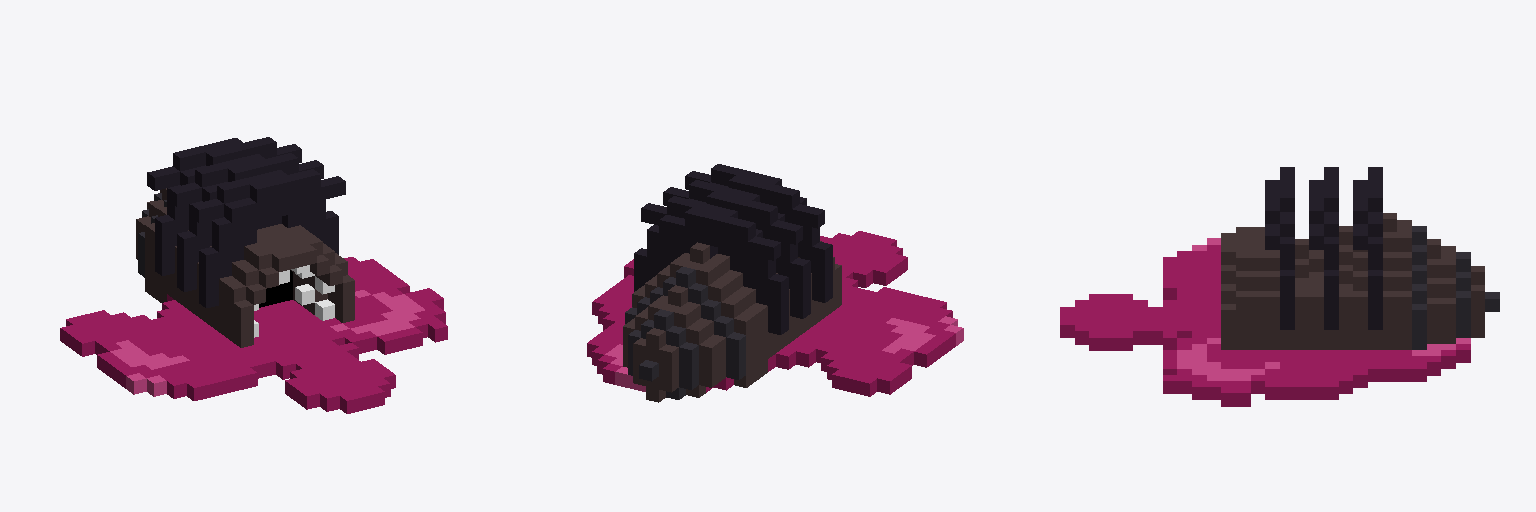
3 views of the same model, side by side, from view 1: azimuth 30°, elevation 25°; view 2: azimuth 150°, elevation 25°; view 3: azimuth 270°, elevation 25° (orthographic).
Visible parts, largest first — view 1: monster3_die4; view 2: monster3_die4; view 3: monster3_die4.
Part boxes in pixels (left/top/right/bottom): monster3_die4: left=60, top=137, right=447, bottom=413; monster3_die4: left=587, top=164, right=963, bottom=402; monster3_die4: left=1060, top=167, right=1499, bottom=406.
Size of the model in its own units: 25 by 11 by 30.
Materials: 1 (1 with a texture image).